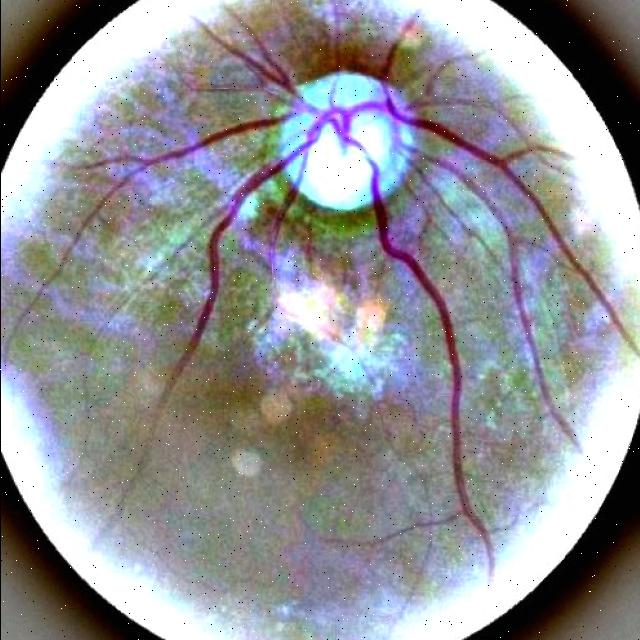Macula: (214, 356, 331, 455)
Nerves: (23, 46, 352, 479), (358, 93, 618, 335), (366, 141, 493, 560)
Optic Disk: (262, 66, 426, 229)
